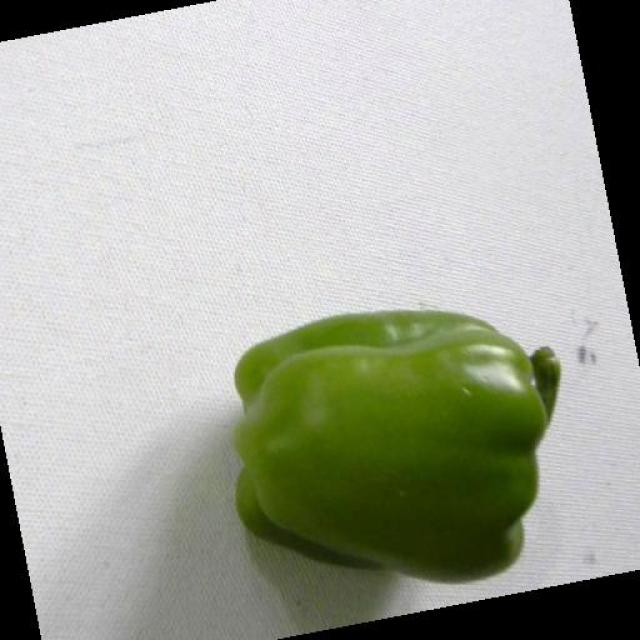Fresh_Capsicum: (235, 297, 562, 570)
